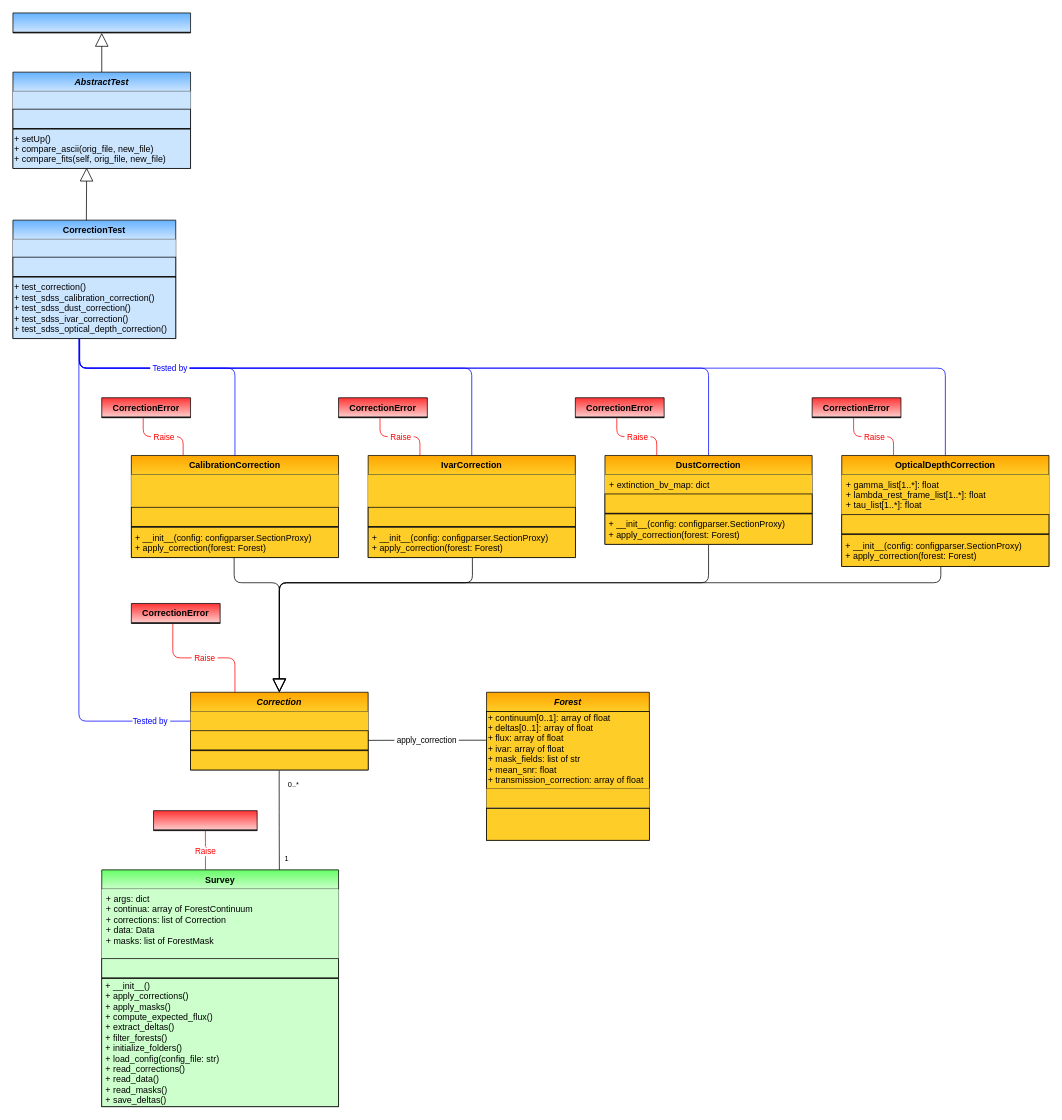
The diagram is 1062 pixels wide and 1120 high, and some of its shapes have lost their labels. Here are the shapes that lost their labels. From the top down, the centre of each, then its label:
At point (101, 22): "unittest.TestCase".
At point (234, 490): "+ correct_flux: scipy.interpolate.interp1d + wave_solution: str".
At point (471, 490): "+ correct_ivar: scipy.interpolate.interp1d + wave_solution: str".
At point (279, 760): "+ apply_correction(forest: Forest)".
At point (205, 820): "DeltaExtractionError".
At point (567, 824): "+ apply_continuum() + rebin(bins: array of float)".
